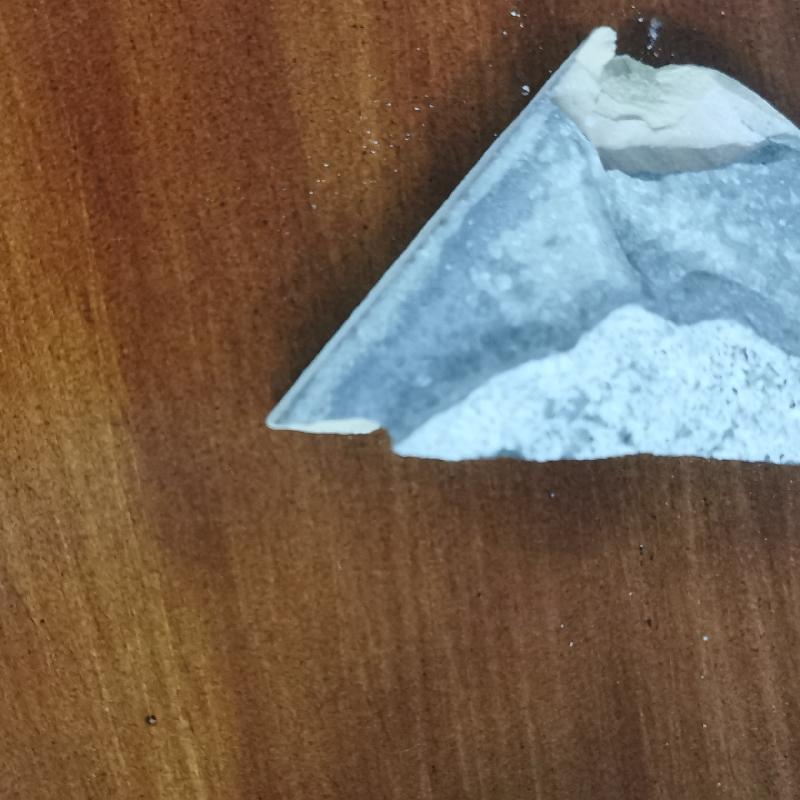tile: (264, 23, 800, 464)
